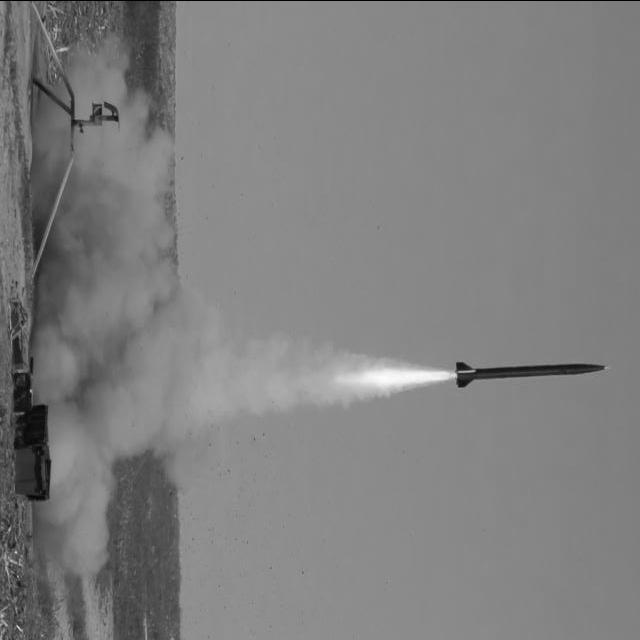missile: (452, 355, 616, 391)
